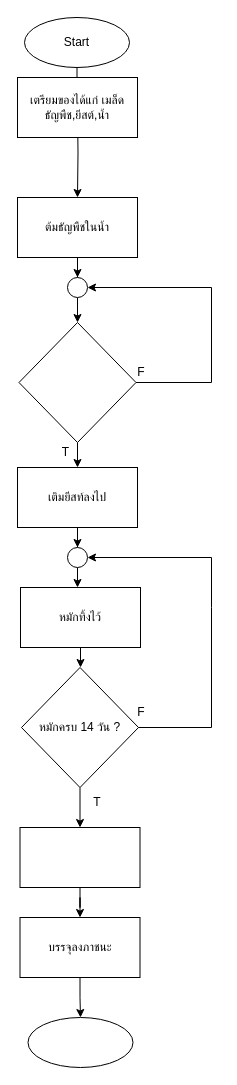
This 237x1085 diagram has some shape labels left out. The box of each missing label's shape, as (x1, y1, x2, y2) in pixels:
Stop: (27, 1016, 133, 1068)
ต้มจนแป้งในธัญพืช เปลื่ยนเป็นนํ้าตาล ?: (18, 322, 136, 442)
นําออกมากรอง: (19, 826, 140, 888)
